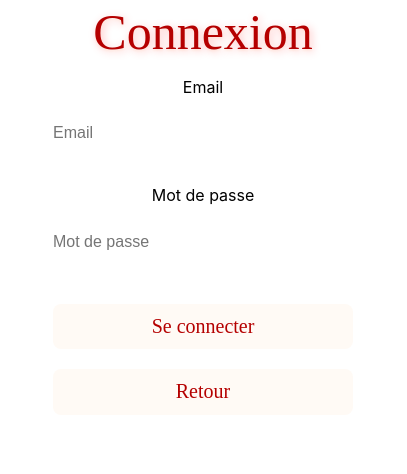
Scenario: LoginForm component › erreur de connexion affiche un message d'erreur
This screenshot has width=407, height=474.
Step 1. Type "wrong@example.com" into the field with placeholder "Email" → (203, 133), box [34,97,372,169]
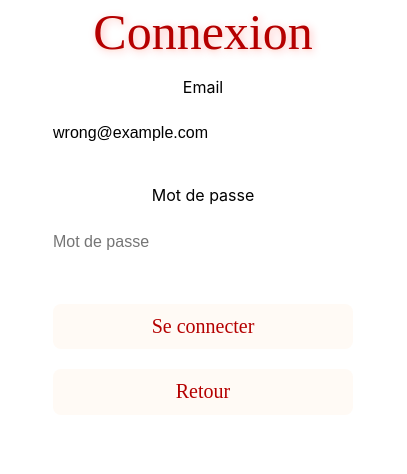
Step 2. Type "wrongpassword" into the password field with placeholder "Mot de passe" → (203, 242), box [34,205,372,278]
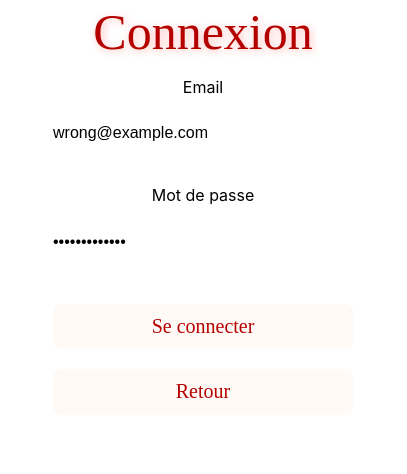
Step 3. Click the button "Se connecter" → (203, 326), box [53,304,353,349]
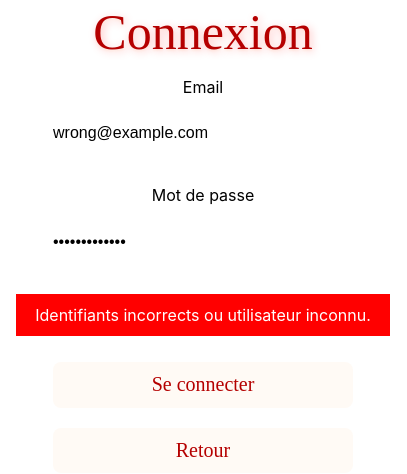
Expected: the text "Identifiants incorrects ou utilisateur inconnu." is shown, [16,294,390,336]
